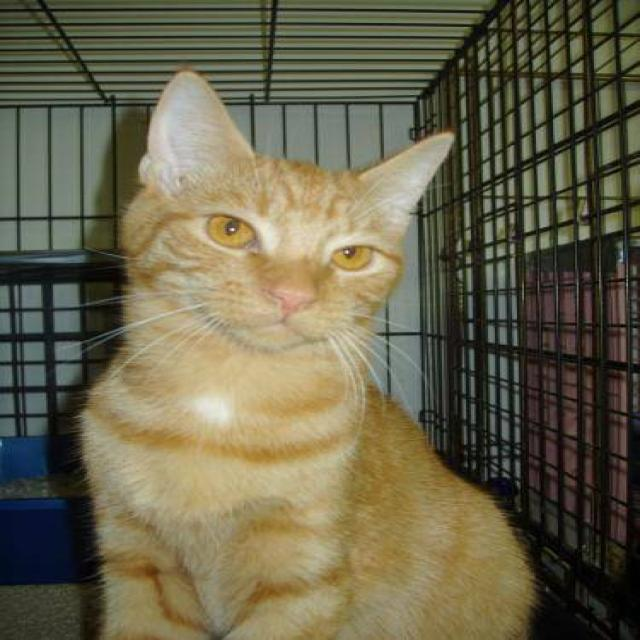cat: (72, 66, 539, 638)
